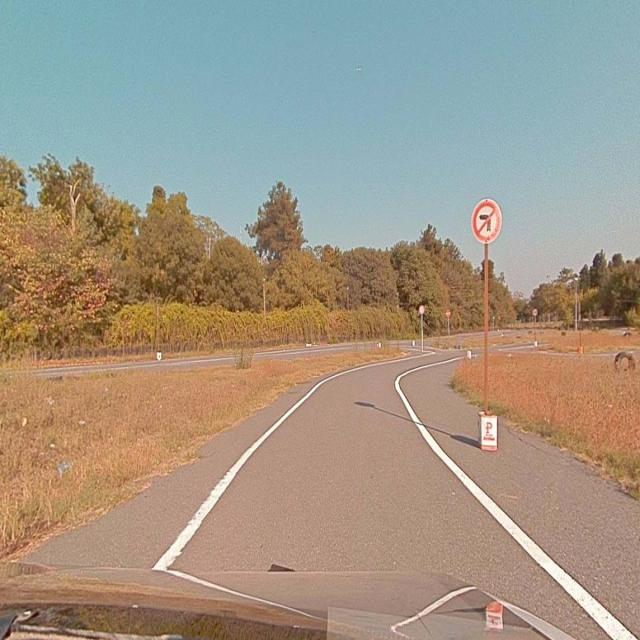soladonulmez: (472, 199, 502, 244)
